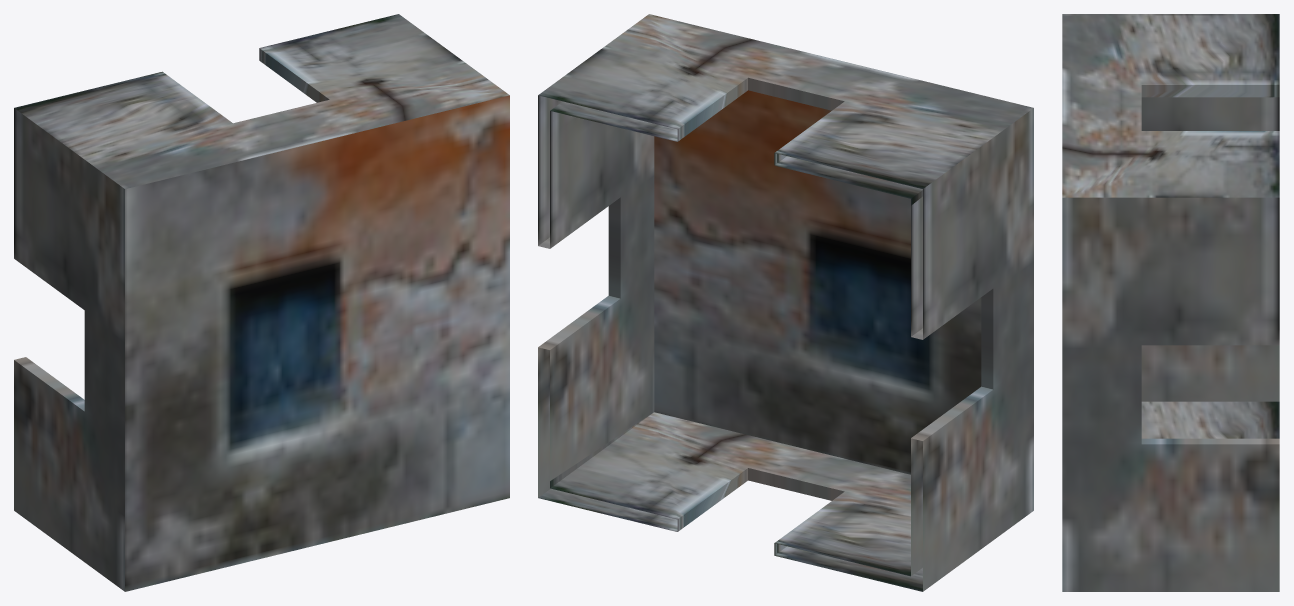
The model's file is 4x4NSEW2_wtf.obj.
The picture shows the model from 3 angles, left to right: view 1: azimuth 30°, elevation 25°; view 2: azimuth 150°, elevation 25°; view 3: azimuth 270°, elevation 25°; orthographic projection. The views are drawn at different scales.
Visible parts, largest first — view 1: group3; view 2: group3; view 3: group3.
Boxes of the visible parts, x1,y1,x2,y2 form: group3: [14, 14, 509, 591]; group3: [538, 14, 1033, 591]; group3: [1062, 14, 1279, 591].
Bounding box in the file's own units: 660 × 660 × 330.
